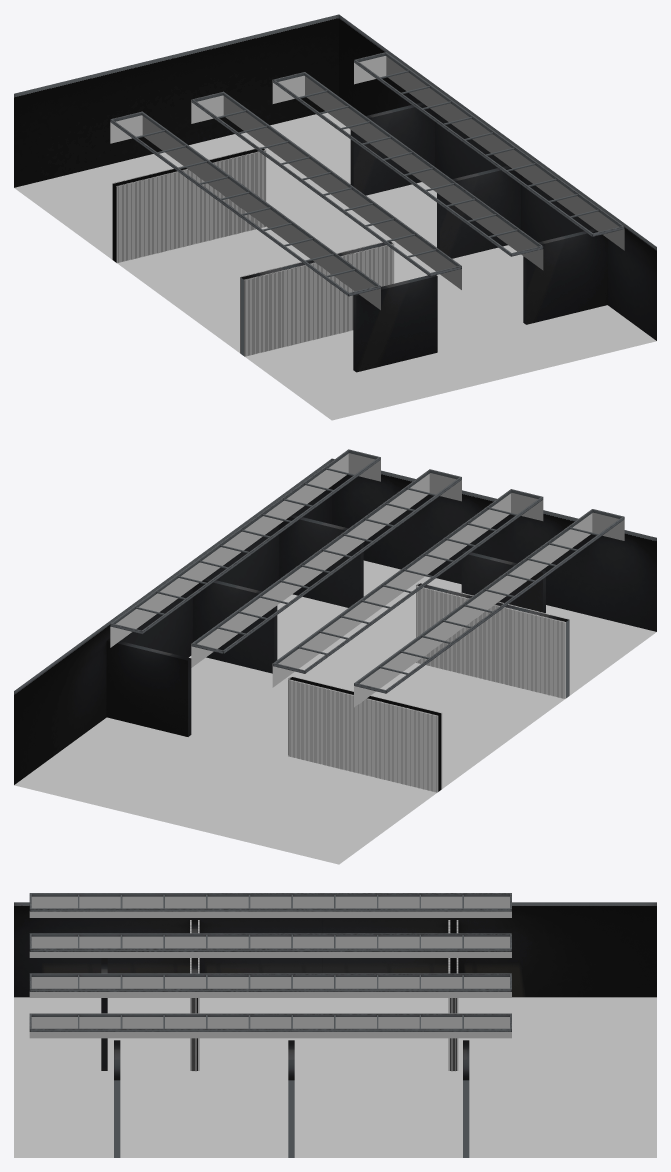
3 renders of one model, top to bottom at view 1: azimuth 30°, elevation 25°; view 2: azimuth 150°, elevation 25°; view 3: azimuth 270°, elevation 25°, orthographic.
Parts seen in each view (by area): view 1: floor_02 - Default_0, walls_01 - Default_0, wood, window, Box005_vray Walls_0; view 2: floor_02 - Default_0, walls_01 - Default_0, wood, window, Box005_vray Walls_0; view 3: floor_02 - Default_0, walls_01 - Default_0, window, wood, Box005_vray Walls_0.
Part boxes in pixels (left/top/right/bottom): floor_02 - Default_0: left=14, top=56, right=656, bottom=420; walls_01 - Default_0: left=14, top=14, right=656, bottom=372; wood: left=112, top=147, right=394, bottom=356; window: left=110, top=52, right=624, bottom=296; Box005_vray Walls_0: left=113, top=149, right=264, bottom=262; floor_02 - Default_0: left=14, top=453, right=656, bottom=864; walls_01 - Default_0: left=14, top=458, right=656, bottom=784; wood: left=288, top=582, right=569, bottom=792; window: left=110, top=449, right=624, bottom=693; Box005_vray Walls_0: left=289, top=677, right=441, bottom=791; floor_02 - Default_0: left=14, top=896, right=656, bottom=1157; walls_01 - Default_0: left=14, top=902, right=656, bottom=1157; window: left=29, top=893, right=511, bottom=1031; wood: left=190, top=920, right=458, bottom=1071; Box005_vray Walls_0: left=450, top=920, right=456, bottom=1070.
Bounding box in the file's own units: 1200 × 406 × 2032.
